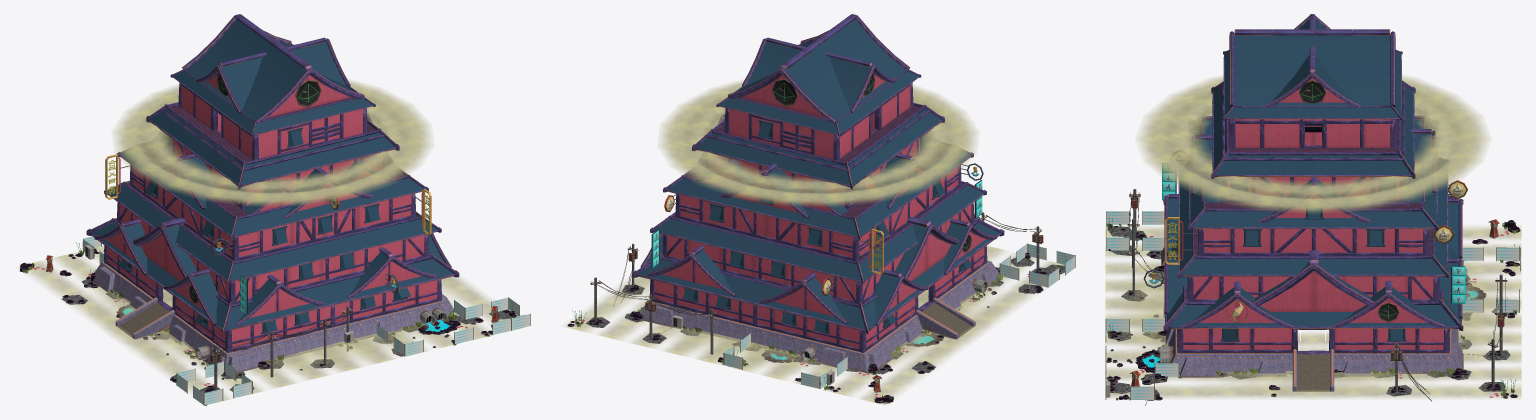
File: ZenPlace.glb
The picture shows the model from 3 angles, left to right: view 1: azimuth 30°, elevation 25°; view 2: azimuth 150°, elevation 25°; view 3: azimuth 270°, elevation 25°; orthographic projection. The views are drawn at different scales.
Parts seen in each view (by area): view 1: Cyber_Surroundings_01; view 2: Cyber_Surroundings_01; view 3: Cyber_Surroundings_01.
Boxes of the visible parts, x1,y1,x2,y2 form: Cyber_Surroundings_01: (19, 14, 530, 405); Cyber_Surroundings_01: (564, 14, 1075, 404); Cyber_Surroundings_01: (1105, 14, 1521, 405).
Bounding box in the file's own units: 80 × 61.9 × 80.
16 materials, 16 textured.
